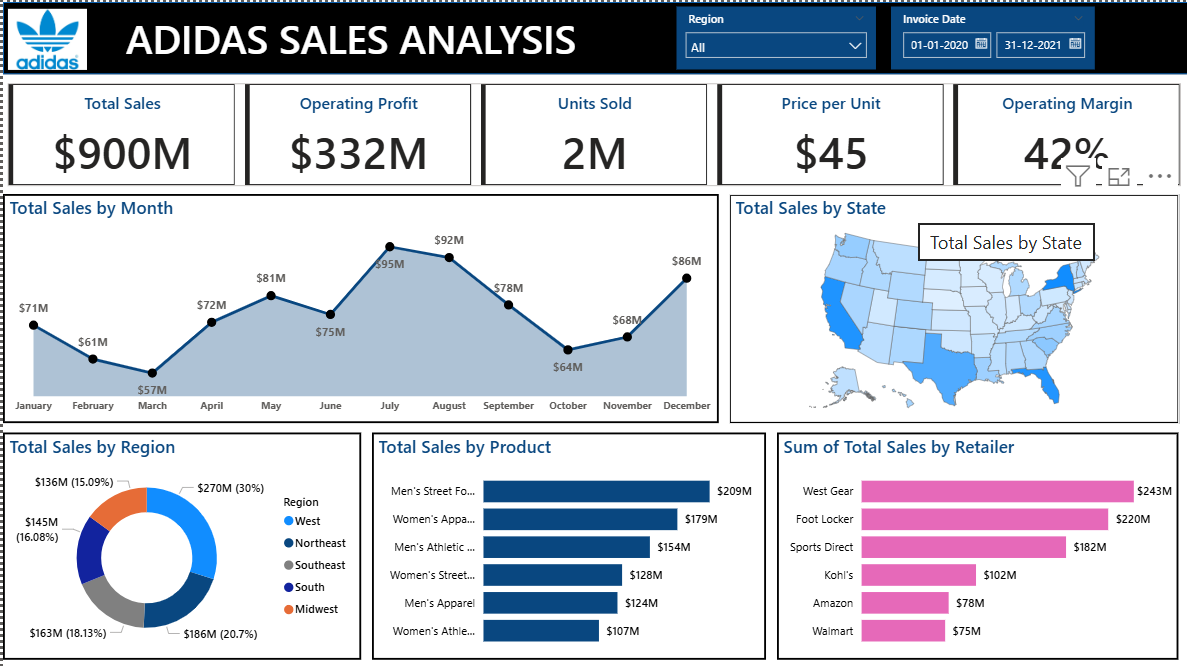

Layout of this report page (visuals, bound fields, positions):
{"tool":"powerbi","page":{"name":"Page 1","canvas":[1280,720],"ordinal":0},"visuals":[{"type":"shape","box":[0,0,1280.8,78],"z":0},{"type":"cardVisual","fields":{"Data":["Sum(Data Sales Adidas.Total Sales)","Sum(Data Sales Adidas.Operating Profit)","Sum(Data Sales Adidas.Units Sold)","Avg(Data Sales Adidas.Price per Unit)","Avg(Data Sales Adidas.Operating Margin)"]},"box":[0,82.6,1280.8,121],"z":1000},{"type":"areaChart","title":"Total Sales by Month","fields":{"Category":["Data Sales Adidas.Invoice Date.Variation.Date Hierarchy.Month"],"Y":["Sum(Data Sales Adidas.Total Sales)"]},"box":[0,207.3,772.4,247],"z":2000},{"type":"donutChart","title":"Total Sales by Region","fields":{"Category":["Data Sales Adidas.Region"],"Y":["Sum(Data Sales Adidas.Total Sales)"]},"box":[0,465,386.7,245],"z":3000},{"type":"barChart","title":"Total Sales by Product","fields":{"Category":["Data Sales Adidas.Product"],"Y":["Sum(Data Sales Adidas.Total Sales)"]},"box":[398.3,465,425,245],"z":4000},{"type":"barChart","fields":{"Category":["Data Sales Adidas.Retailer"],"Y":["Sum(Data Sales Adidas.Total Sales)"]},"box":[835,465,433.3,245],"z":5000},{"type":"shapeMap","title":"Total Sales by State","fields":{"Category":["Data Sales Adidas.State"],"Value":["Sum(Data Sales Adidas.Total Sales)"]},"box":[783.7,207.3,485.8,247.7],"z":6000},{"type":"slicer","fields":{"Values":["Data Sales Adidas.Region"]},"box":[727,4.9,215.4,68],"z":7000},{"type":"textbox","title":"ADIDAS SALES ANALYSIS","box":[55.1,9.7,641.2,56.7],"z":8000},{"type":"image","box":[0,0,95.5,81],"z":9000},{"type":"slicer","fields":{"Values":["Data Sales Adidas.Invoice Date"]},"box":[958.6,4.9,220.2,68],"z":10000}]}

Visuals, with their boxes in screenshot pixels (x1, y1, x2, y2), scaled from the page's 1280x720 canvas onto the 1187x666 screenshot:
shape: bbox=[0, 0, 1186, 72]
cardVisual - Sum(Data Sales Adidas.Total Sales) x Sum(Data Sales Adidas.Operating Profit): bbox=[0, 76, 1186, 188]
"Total Sales by Month" areaChart: bbox=[0, 192, 716, 420]
"Total Sales by Region" donutChart: bbox=[0, 430, 359, 657]
"Total Sales by Product" barChart: bbox=[369, 430, 763, 657]
barChart - Data Sales Adidas.Retailer x Sum(Data Sales Adidas.Total Sales): bbox=[774, 430, 1176, 657]
"Total Sales by State" shapeMap: bbox=[727, 192, 1177, 421]
slicer - Data Sales Adidas.Region: bbox=[674, 5, 874, 67]
"ADIDAS SALES ANALYSIS" textbox: bbox=[51, 9, 646, 61]
image: bbox=[0, 0, 89, 75]
slicer - Data Sales Adidas.Invoice Date: bbox=[889, 5, 1093, 67]
